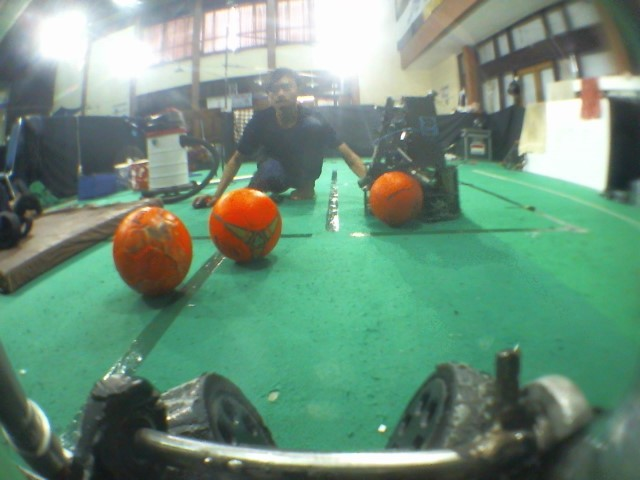ball: (108, 204, 194, 302), (205, 187, 285, 271), (365, 171, 427, 230)
